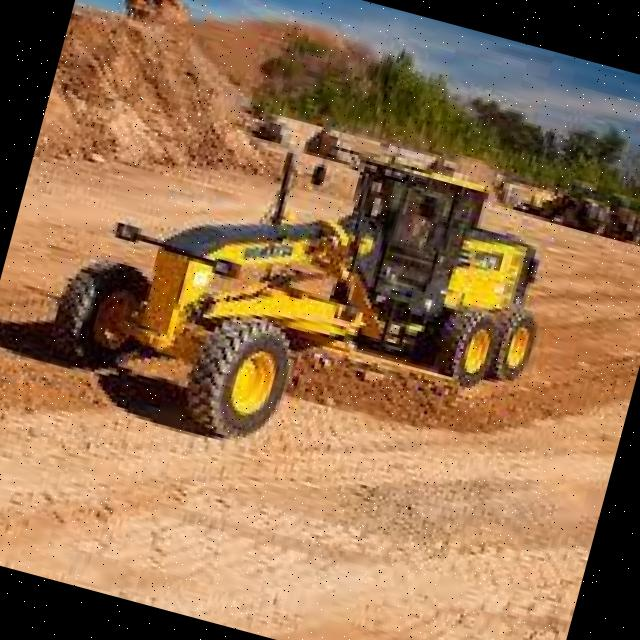Grader: (0, 36, 612, 543)
